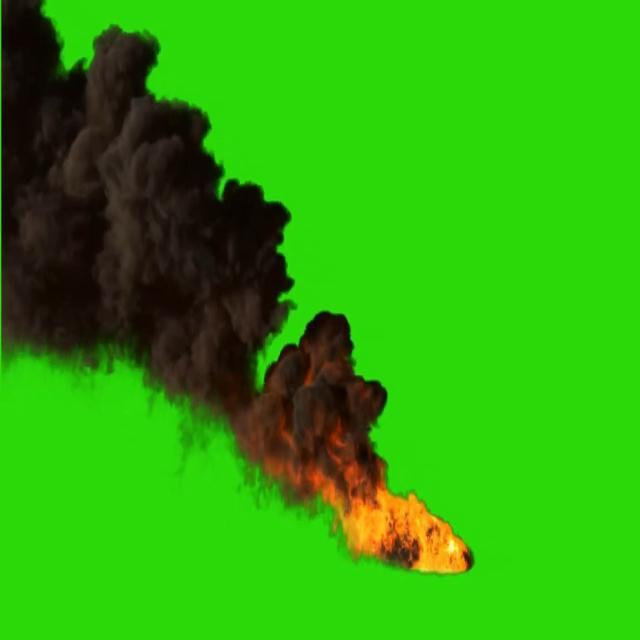Fire: (359, 494, 475, 580)
Smoke: (8, 4, 290, 454)
